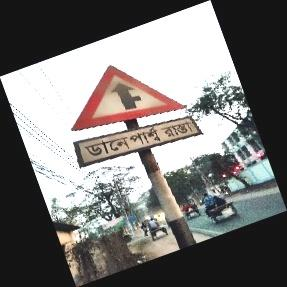Side-road-right: (70, 65, 198, 169)
